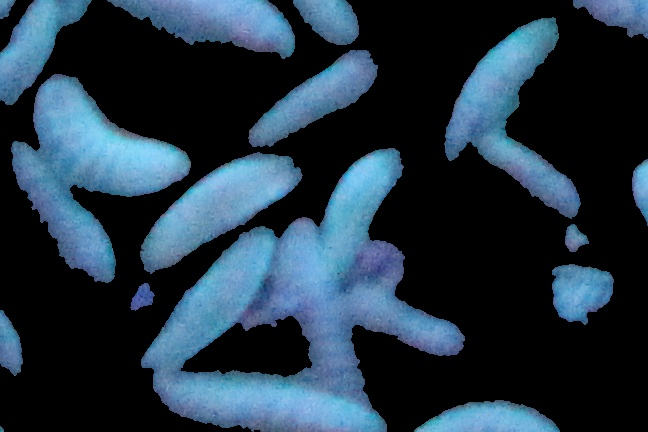larvae: (140, 155, 301, 274), (442, 15, 564, 172), (142, 232, 273, 375), (33, 79, 189, 197), (279, 217, 371, 408), (7, 138, 116, 295), (154, 367, 387, 432), (244, 52, 382, 148), (96, 1, 297, 59), (322, 146, 401, 281), (348, 282, 468, 364), (482, 137, 577, 223), (405, 391, 562, 432), (286, 1, 358, 48)
